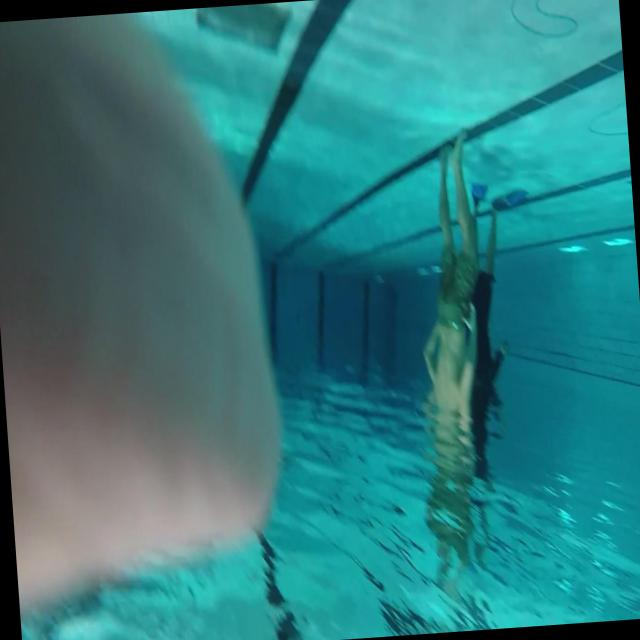human: (406, 128, 496, 478), (451, 182, 518, 486)
